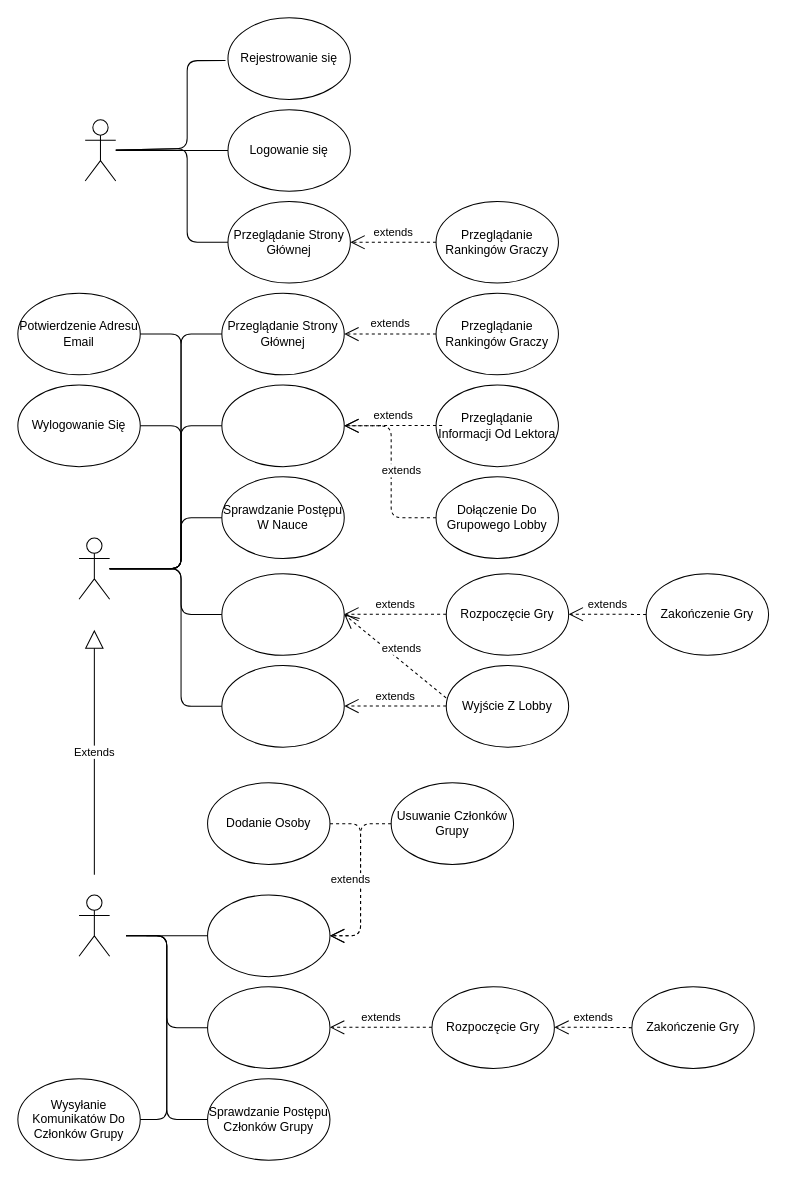
Image size: 786x1178. Some labels were removed from this diagram. Here are the shapes that lost their labels. From the top down, the centre of each, then its label:
At (x=100, y=150): "Gracz Niezalogowany".
At (x=282, y=425): "Dołączanie Do Grupy".
At (x=94, y=568): "Gracz Zalogowany".
At (x=282, y=614): "Utworzenie Nowego Lobby Gry".
At (x=282, y=706): "Dołączanie Do Istniejącego Lobby".
At (x=94, y=925): "Lektor".
At (x=268, y=935): "Zarządzanie Składem Grupy".
At (x=268, y=1027): "Utworzenie Grupowego Lobby".
